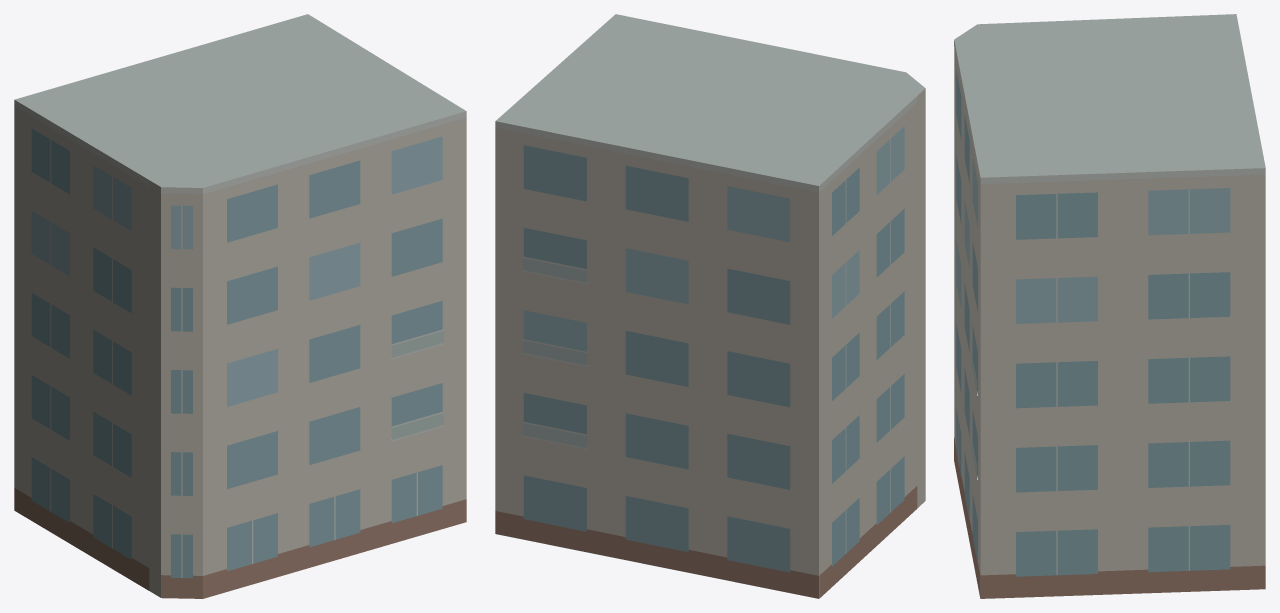
Rendered from survey-upis-32529113.glb.
The picture shows the model from 3 angles, left to right: view 1: azimuth 30°, elevation 25°; view 2: azimuth 150°, elevation 25°; view 3: azimuth 270°, elevation 25°; orthographic projection. The views are drawn at different scales.
Visible parts, largest first — view 1: survey-upis-32529113.tmp; view 2: survey-upis-32529113.tmp; view 3: survey-upis-32529113.tmp.
Part boxes in pixels (x1=…): survey-upis-32529113.tmp: x1=14, y1=14, x2=466, y2=598; survey-upis-32529113.tmp: x1=495, y1=14, x2=925, y2=598; survey-upis-32529113.tmp: x1=954, y1=14, x2=1265, y2=598.
Bounding box in the file's own units: 13.1 × 15.7 × 10.54.
